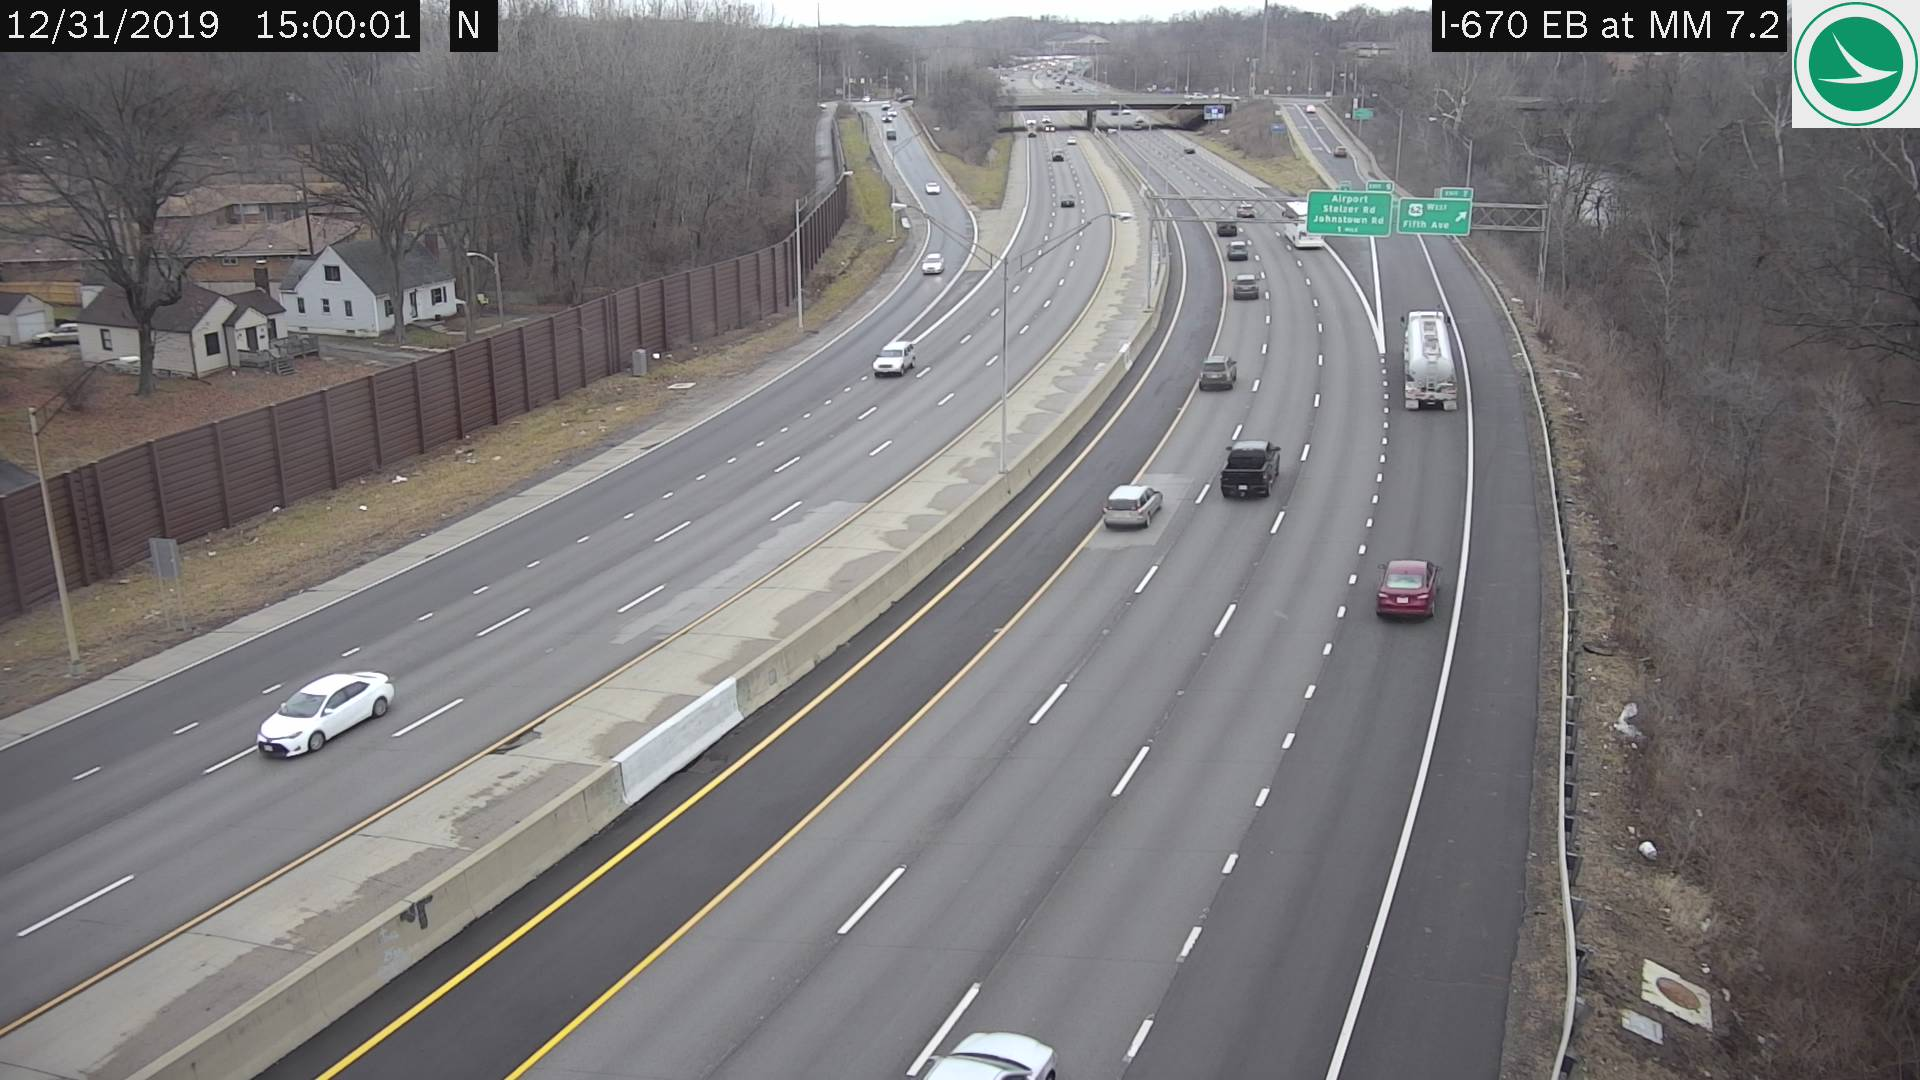car: (255, 673, 394, 764), (914, 1033, 1062, 1076), (1402, 309, 1455, 407), (1218, 440, 1278, 500), (1374, 560, 1429, 620), (1102, 484, 1158, 527), (1278, 200, 1323, 247), (1197, 352, 1234, 392), (874, 336, 914, 372), (1234, 272, 1254, 301), (920, 251, 942, 272), (1226, 240, 1246, 262), (1216, 215, 1238, 235), (1236, 204, 1253, 218), (926, 179, 942, 193)
